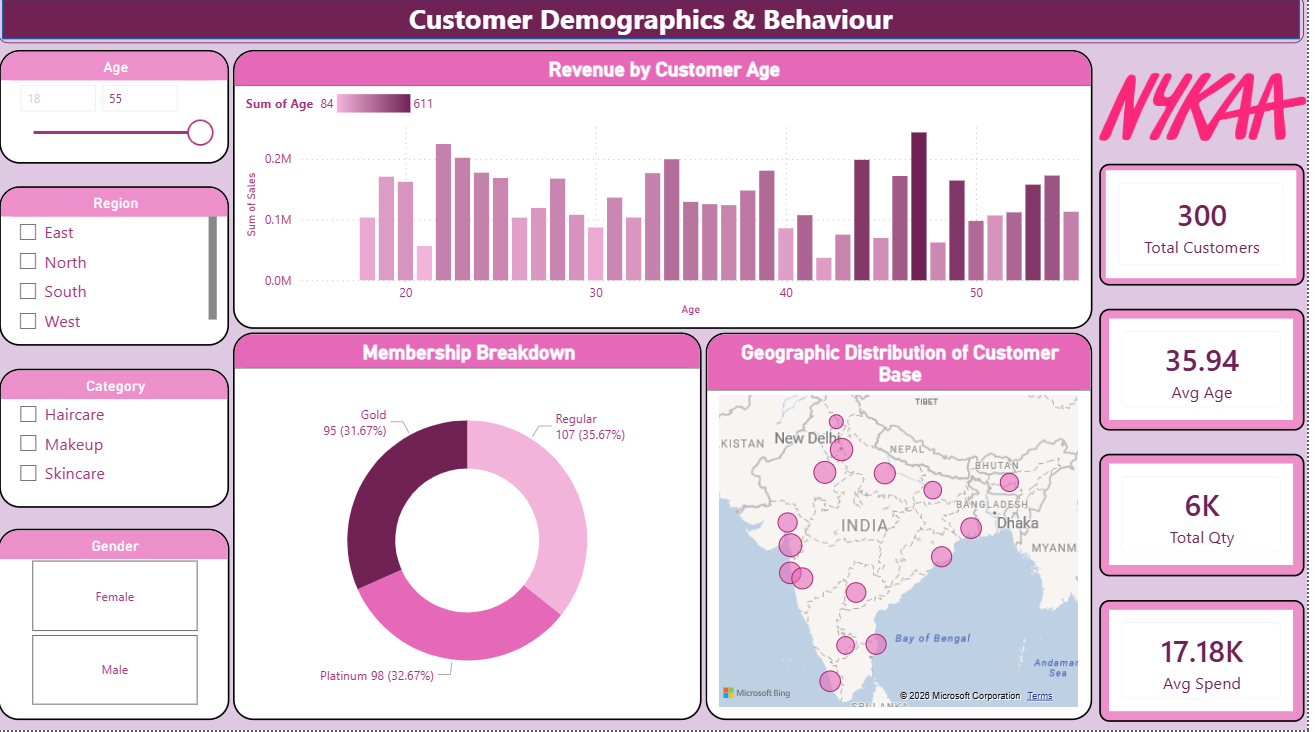

This screenshot's page, from the dashboard's own definition file:
{"tool":"powerbi","page":{"name":"customer demographics","canvas":[1280,720],"ordinal":2},"visuals":[{"type":"cardVisual","fields":{"Data":["Count(Nykaa_Customers_2017_2022.CustomerID)"]},"box":[1077.7,164.5,200.5,119],"z":0},{"type":"cardVisual","fields":{"Data":["Avg(Nykaa_Customers_2017_2022.Age)"]},"box":[1077.7,306.6,200.5,119],"z":1000},{"type":"cardVisual","fields":{"Data":["Sum(Nykaa_Sales_2017_2022.Quantity)"]},"box":[1077.7,448.7,200.5,119.7],"z":2000},{"type":"cardVisual","fields":{"Data":["daxs.Avg Spend"]},"box":[1077.7,591.5,200.5,119],"z":3000},{"type":"shape","box":[0,0,1277.5,47.3],"z":4000},{"type":"textbox","box":[0,0,1277.5,47.3],"z":5000},{"type":"donutChart","title":"Membership Breakdown","fields":{"Category":["Nykaa_Customers_2017_2022.MembershipType"],"Y":["Count(Nykaa_Customers_2017_2022.CustomerID)"]},"box":[229.4,330.4,458.8,379.4],"z":6000},{"type":"clusteredColumnChart","title":"Revenue by Customer Age","fields":{"Category":["Nykaa_Customers_2017_2022.Age"],"Y":["Sum(Nykaa_Sales_2017_2022.Sales)"]},"box":[229.4,53.4,841.1,272.7],"z":7000},{"type":"map","title":"Geographic Distribution of Customer Base","fields":{"Category":["Nykaa_Customers_2017_2022.City"],"Size":["Count(Nykaa_Customers_2017_2022.CustomerID)"]},"box":[692.5,330.4,378,379.4],"z":8000},{"type":"slicer","title":"Gender","fields":{"Values":["Nykaa_Customers_2017_2022.Gender"]},"box":[0,522.3,226.5,187.6],"z":9000},{"type":"slicer","title":"Age","fields":{"Values":["Nykaa_Customers_2017_2022.Age"]},"box":[1.4,53.4,225.1,111.1],"z":10000},{"type":"slicer","title":"Region","fields":{"Values":["Nykaa_Customers_2017_2022.Region"]},"box":[1.4,186.6,225.1,155.8],"z":11000},{"type":"slicer","title":"Category","fields":{"Values":["Nykaa_Sales_2017_2022.Category"]},"box":[1.4,365,225.1,135.6],"z":12000},{"type":"image","box":[1077.3,53.5,202.8,110.7],"z":13000}]}

Visuals, with their boxes in screenshot pixels (x1, y1, x2, y2), scaled from the page's 1280x720 canvas onto the 1315x732 screenshot:
cardVisual - Count(Nykaa_Customers_2017_2022.CustomerID): [left=1107, top=167, right=1313, bottom=288]
cardVisual - Avg(Nykaa_Customers_2017_2022.Age): [left=1107, top=312, right=1313, bottom=433]
cardVisual - Sum(Nykaa_Sales_2017_2022.Quantity): [left=1107, top=456, right=1313, bottom=578]
cardVisual - daxs.Avg Spend: [left=1107, top=601, right=1313, bottom=722]
shape: [left=0, top=0, right=1312, bottom=48]
textbox: [left=0, top=0, right=1312, bottom=48]
"Membership Breakdown" donutChart: [left=236, top=336, right=707, bottom=722]
"Revenue by Customer Age" clusteredColumnChart: [left=236, top=54, right=1100, bottom=332]
"Geographic Distribution of Customer Base" map: [left=711, top=336, right=1100, bottom=722]
"Gender" slicer: [left=0, top=531, right=233, bottom=722]
"Age" slicer: [left=1, top=54, right=233, bottom=167]
"Region" slicer: [left=1, top=190, right=233, bottom=348]
"Category" slicer: [left=1, top=371, right=233, bottom=509]
image: [left=1107, top=54, right=1314, bottom=167]
